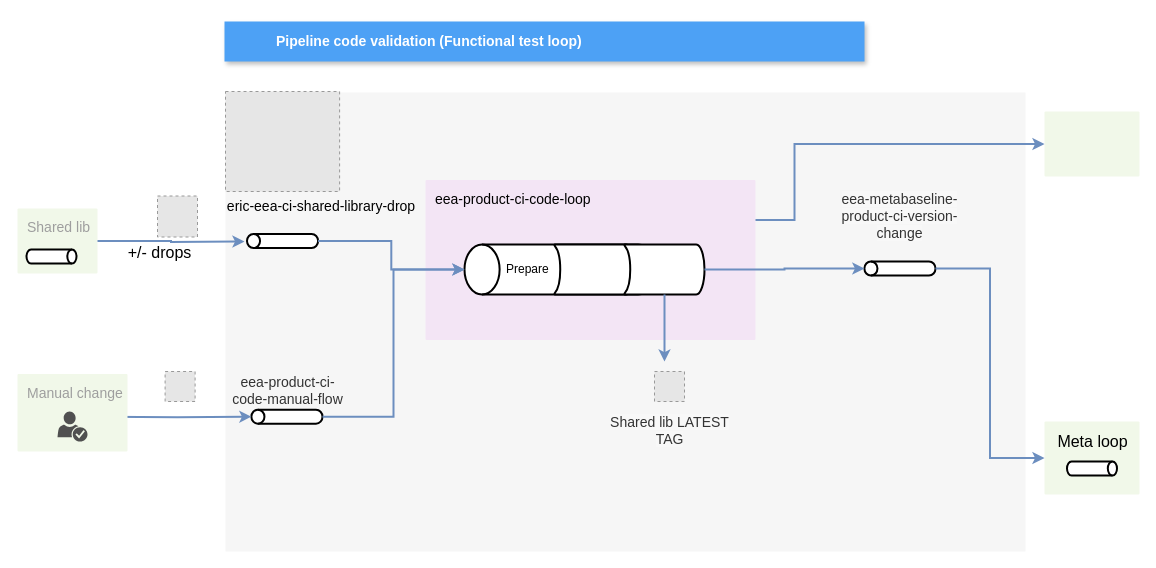
This 1156x568 diagram has some shape labels left out. Grey dashed boxes stand in for pictures. The shapes that lost their labels are listed below. From the top down, each one's centre as x and y in pixels, then its label:
At (1091,143): "Application Dashboard".
At (594,269): "Functional tests".
At (664,269): "Publish".
